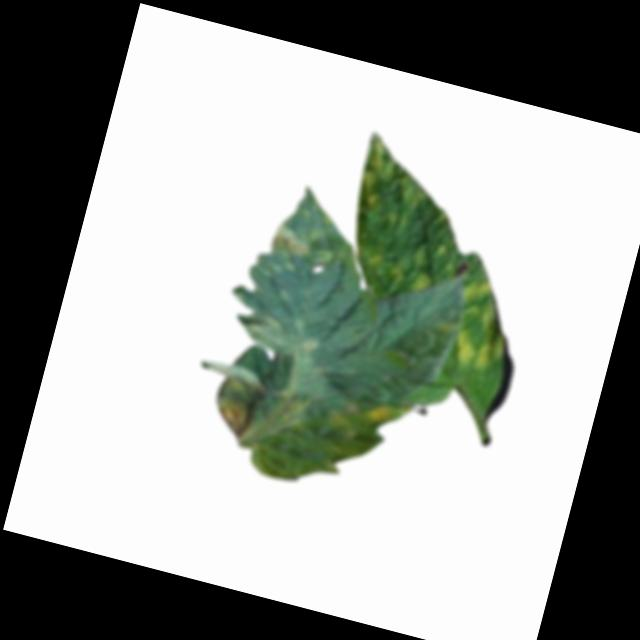Leaf_Mold: (348, 129, 442, 234), (445, 275, 524, 375), (230, 303, 325, 363), (211, 389, 262, 441), (269, 217, 320, 264), (361, 392, 416, 434), (403, 260, 439, 296)
